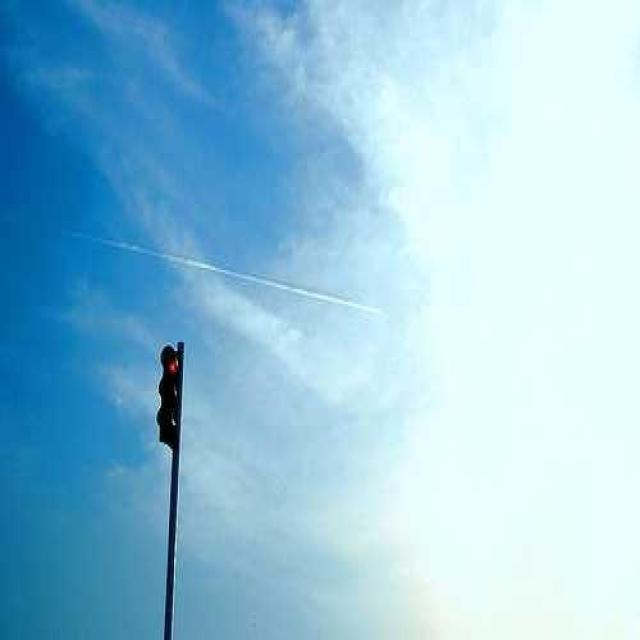Traffic Light -Red-: (157, 342, 185, 444)
